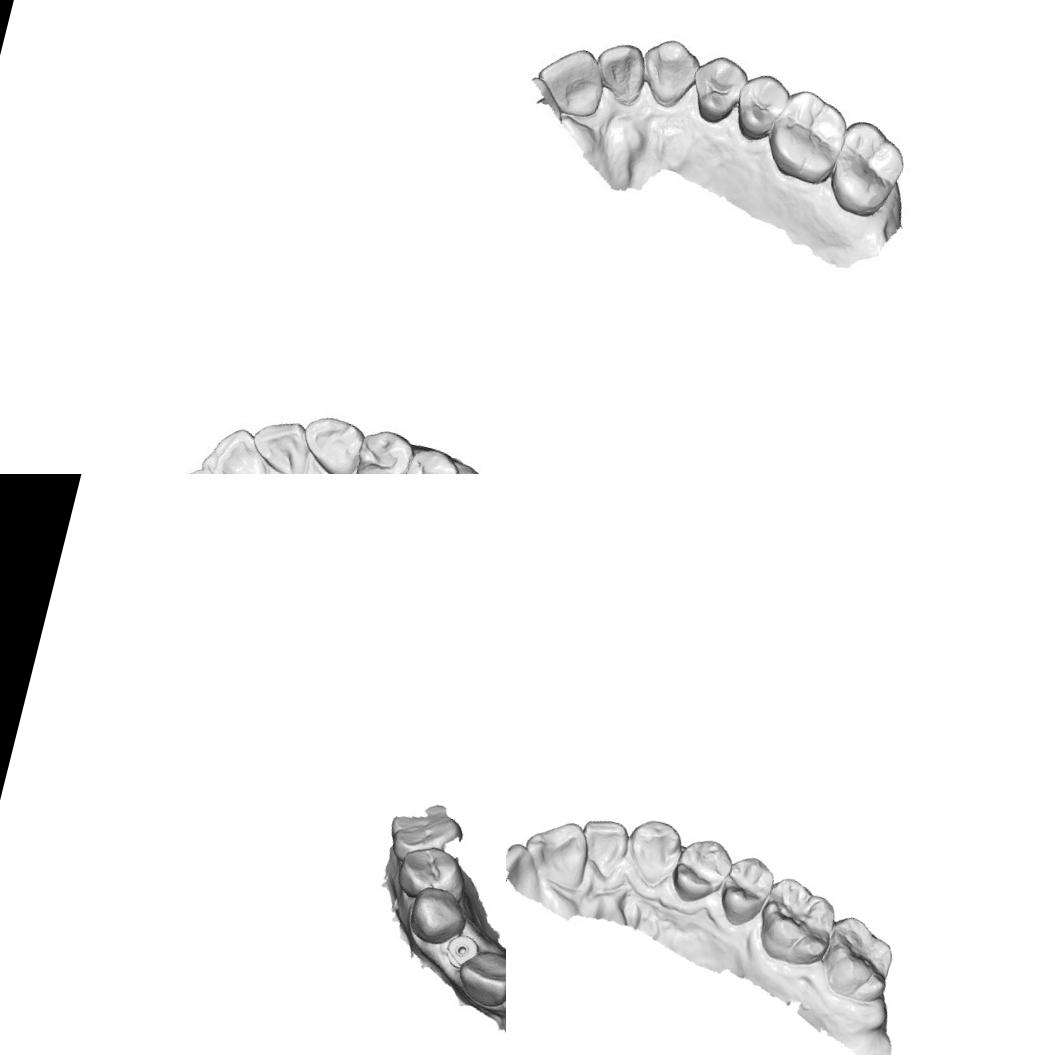canine: (630, 29, 706, 114), (618, 812, 687, 892), (293, 409, 370, 474), (402, 881, 470, 951)
implant: (441, 930, 480, 974)
incisor: (516, 810, 596, 894), (535, 42, 608, 115), (194, 417, 280, 474), (241, 411, 317, 474), (570, 810, 632, 880), (592, 38, 652, 110), (451, 943, 506, 1012)
molar: (758, 80, 854, 192), (818, 114, 914, 224), (747, 870, 844, 972), (815, 912, 901, 1008), (381, 791, 470, 874)
premolar: (681, 49, 755, 129), (710, 849, 778, 932), (666, 830, 736, 910), (728, 66, 793, 148), (388, 844, 466, 904), (345, 423, 414, 474), (392, 441, 464, 474)
